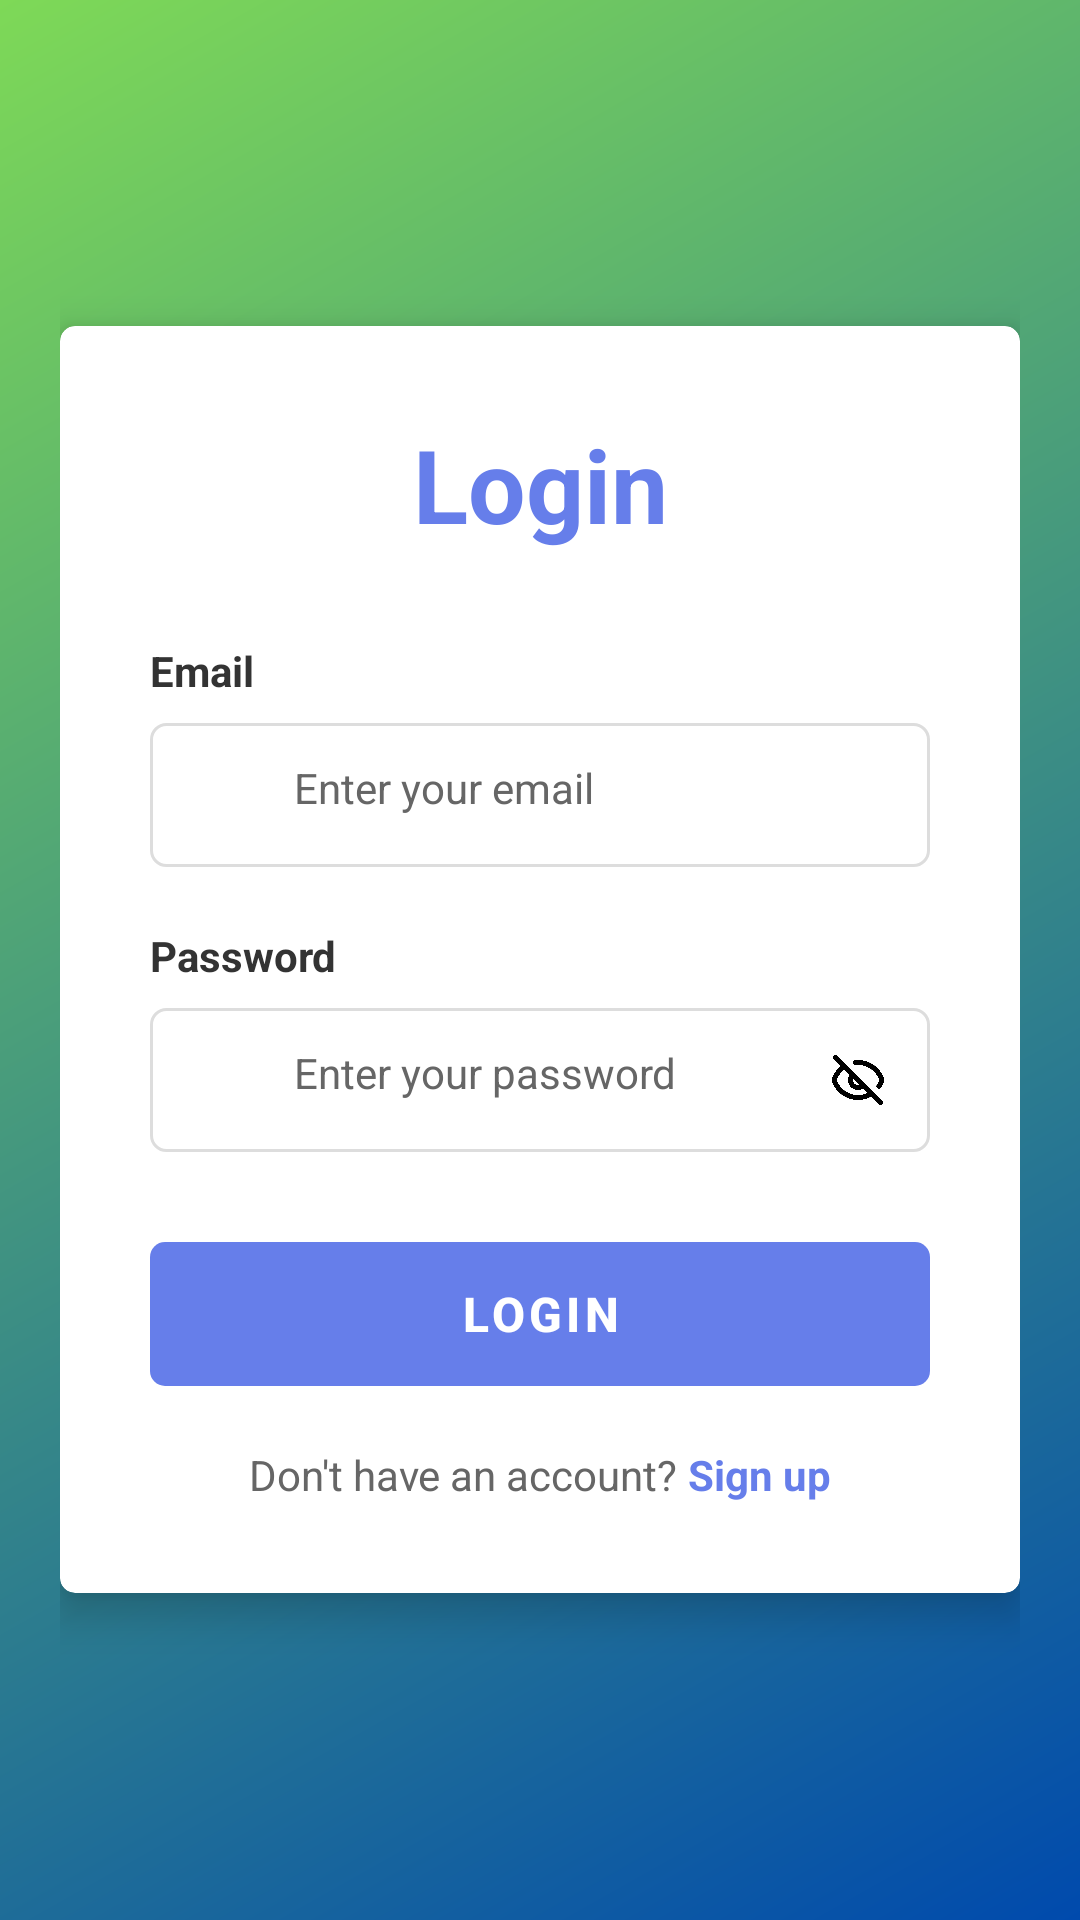

Locate icon controls on the screen. Image size 1080x1920, boxes as rect(x1, y1, x2, y2).
eye slash: rect(832, 1055, 884, 1105)
